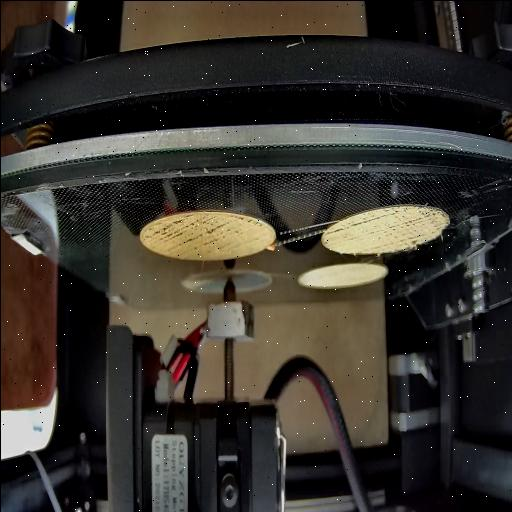under_extrusion: (142, 218, 260, 248), (384, 209, 442, 250), (326, 215, 380, 232)
